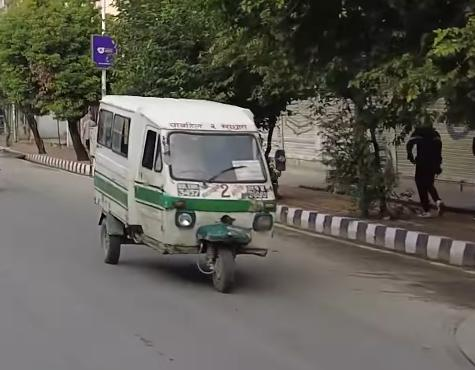tempo: (88, 92, 284, 301)
